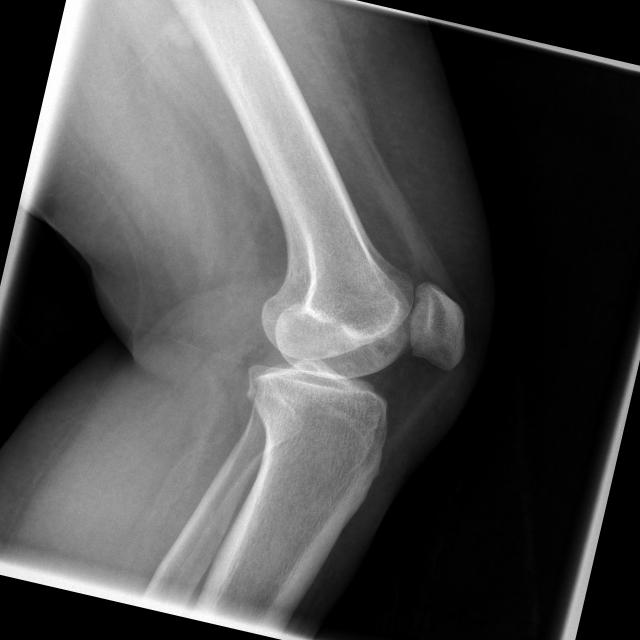Knee: (233, 243, 482, 476)
